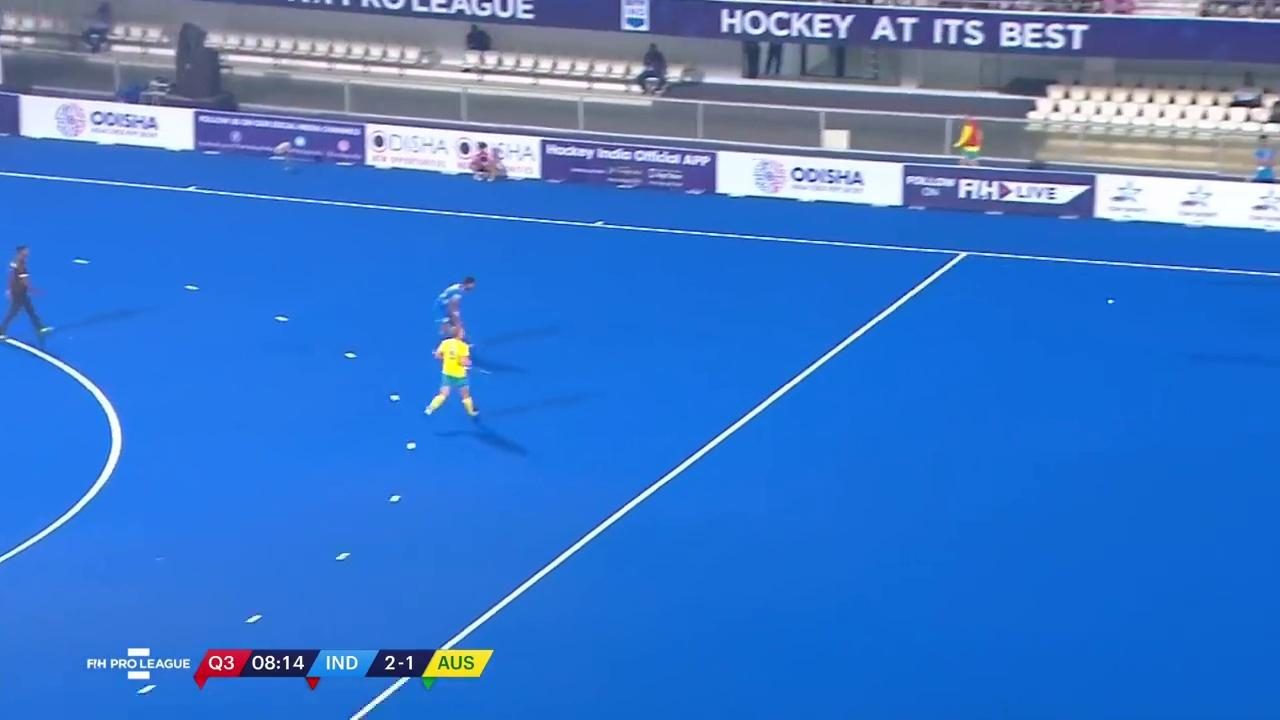ball: (1102, 295, 1118, 309)
